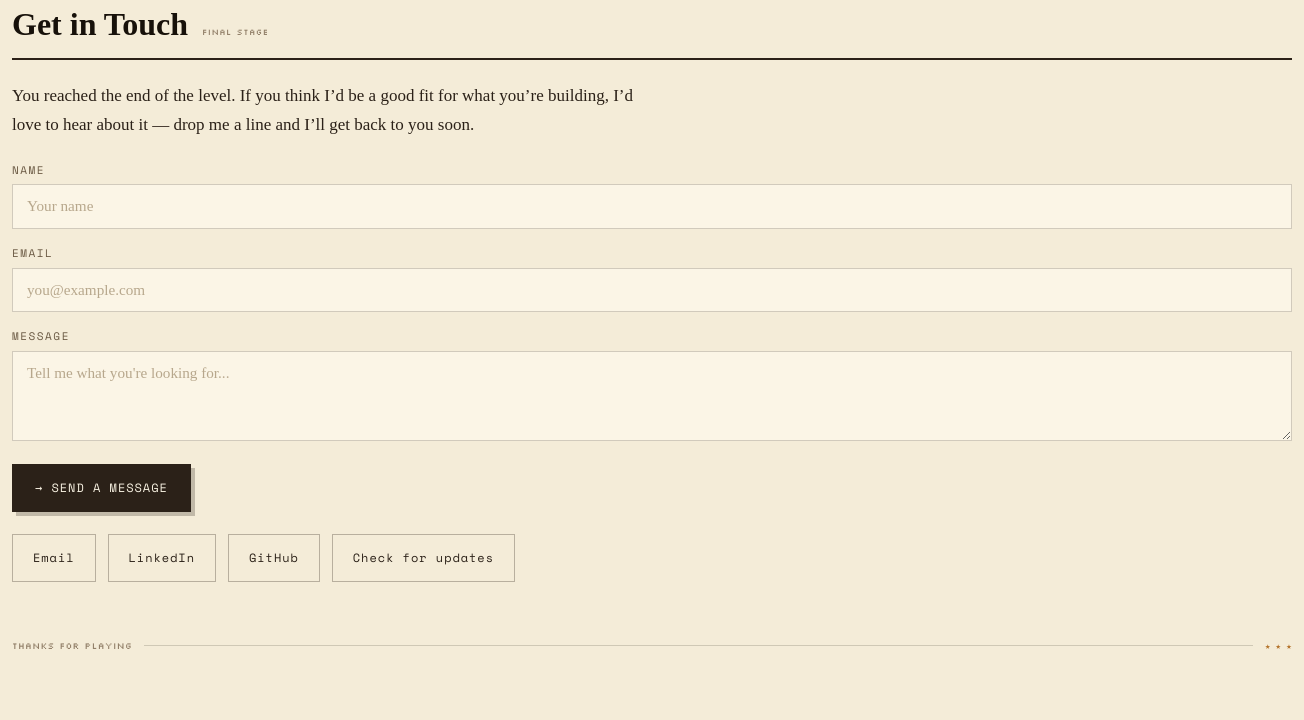
Test: CvContact › shows the update-found message when the check finds a new version
What coordinates should you click on to do the following:
click the button "Check for updates"
I would click on:
 (423, 558)
Its box is [332,534,515,582].
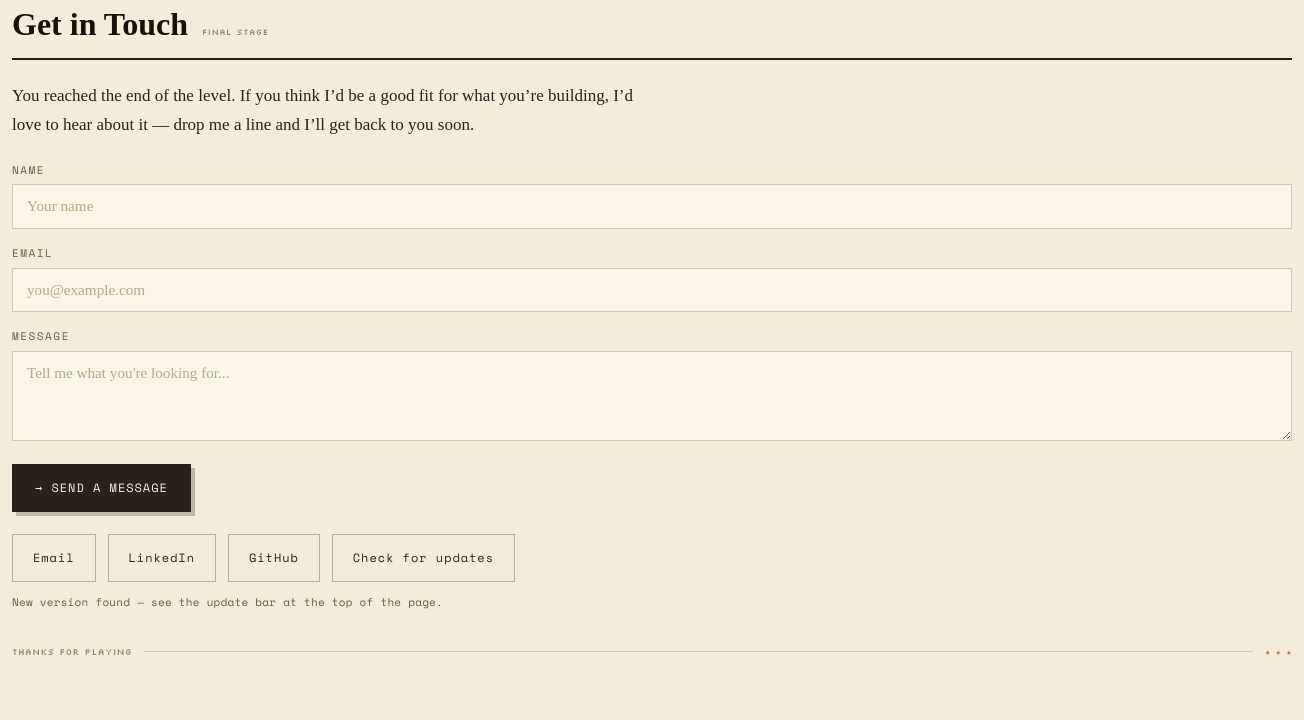
Expected: the text "New version found — see the update bar at the top of the page." is shown, [12,594,443,610]
